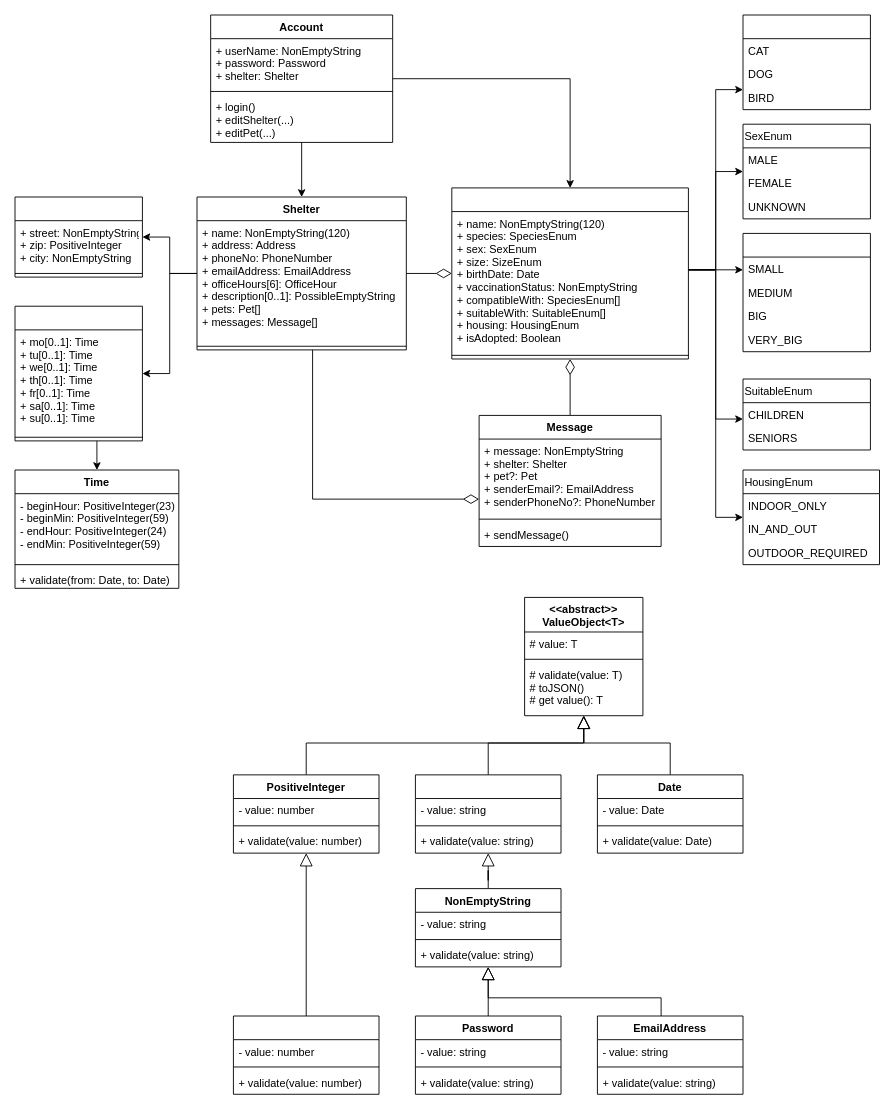
Image size: 895x1109. Some labels were removed from this diagram. Here are the shapes that lost their labels. From the top down, the box of each, then its label:
(742, 14, 870, 110): SpeciesEnum
(14, 196, 142, 277): Address
(451, 187, 688, 359): Pet
(742, 233, 870, 352): SizeEnum
(14, 305, 142, 441): OfficeHours
(415, 774, 561, 853): PossibleEmptyString
(233, 1015, 379, 1094): PhoneNumber
